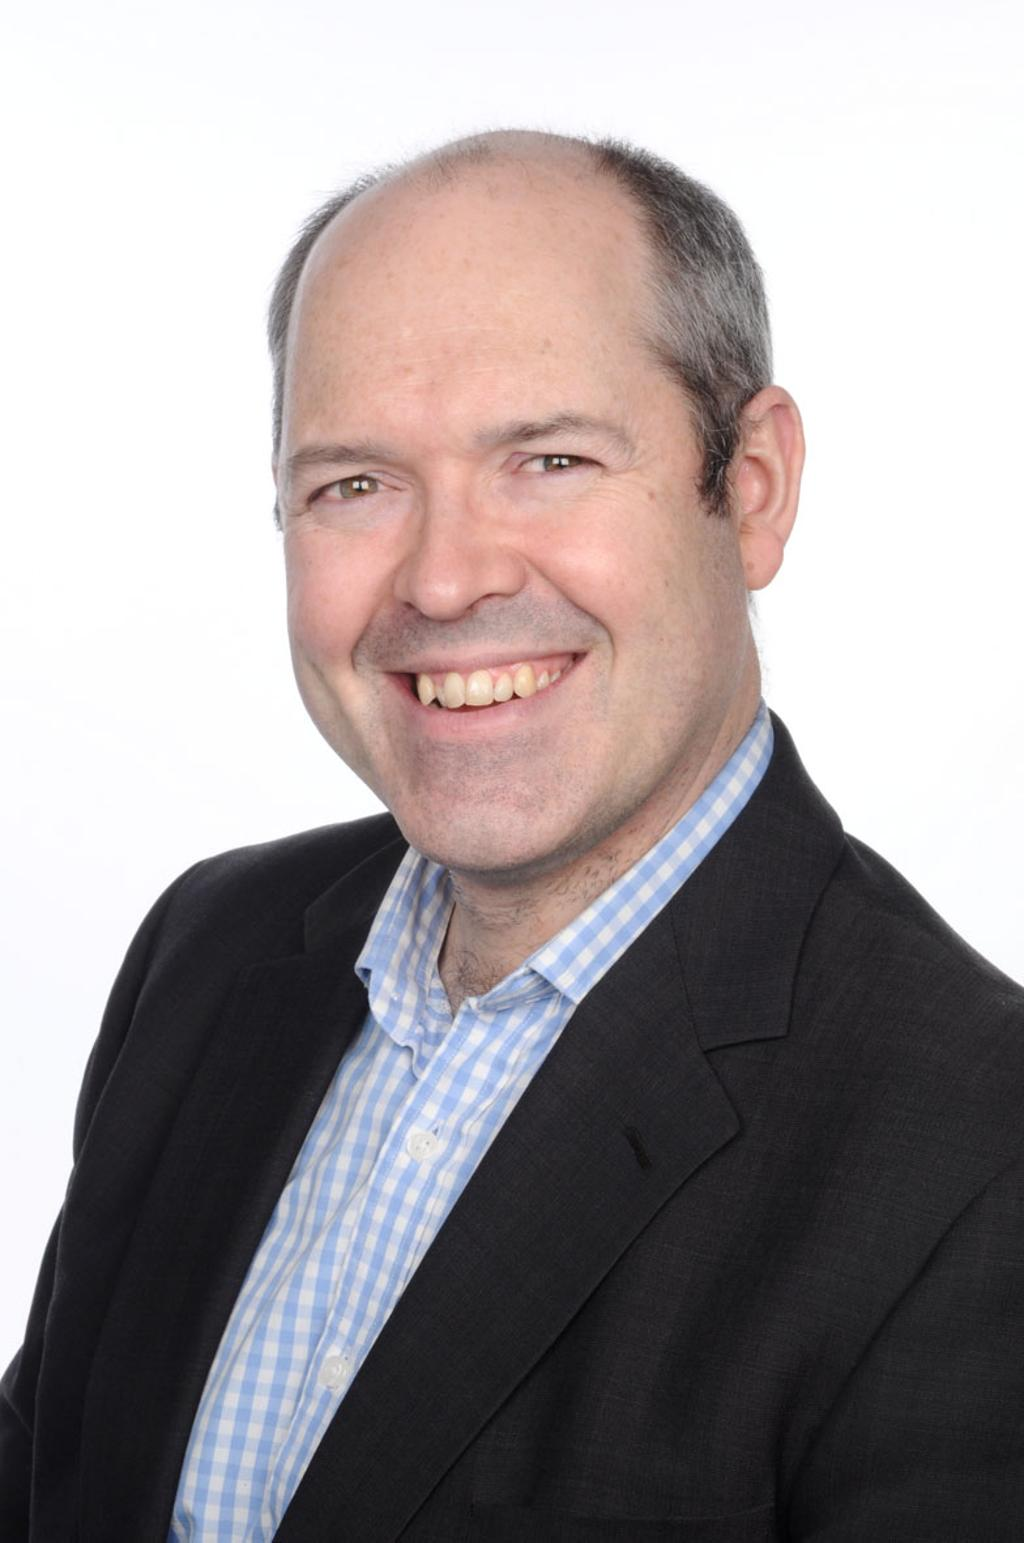face: (286, 187, 726, 871)
